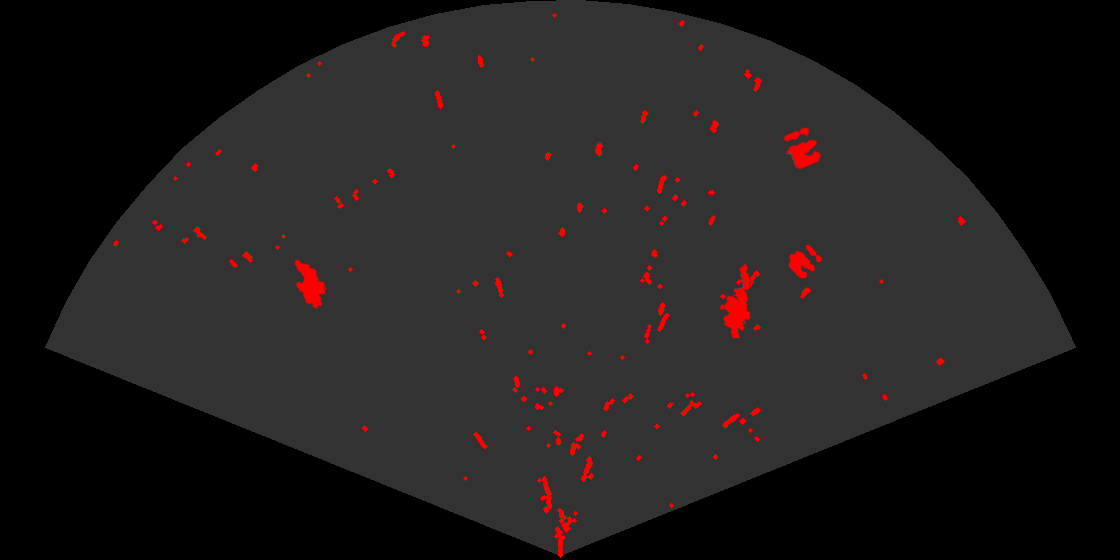AUV: (293, 258, 327, 311)
ball: (782, 125, 823, 171), (787, 243, 824, 280)
frogman: (718, 262, 752, 338)
